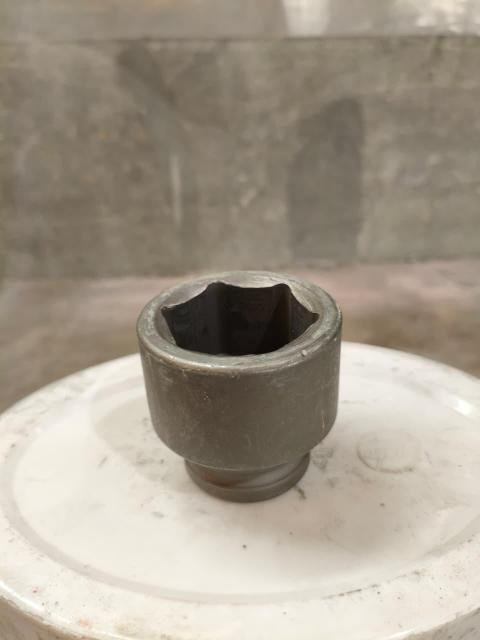Metal: (133, 267, 348, 505)
